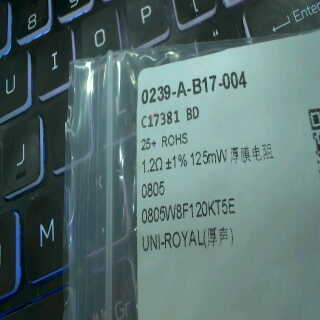1.2R: (139, 155, 165, 204)
